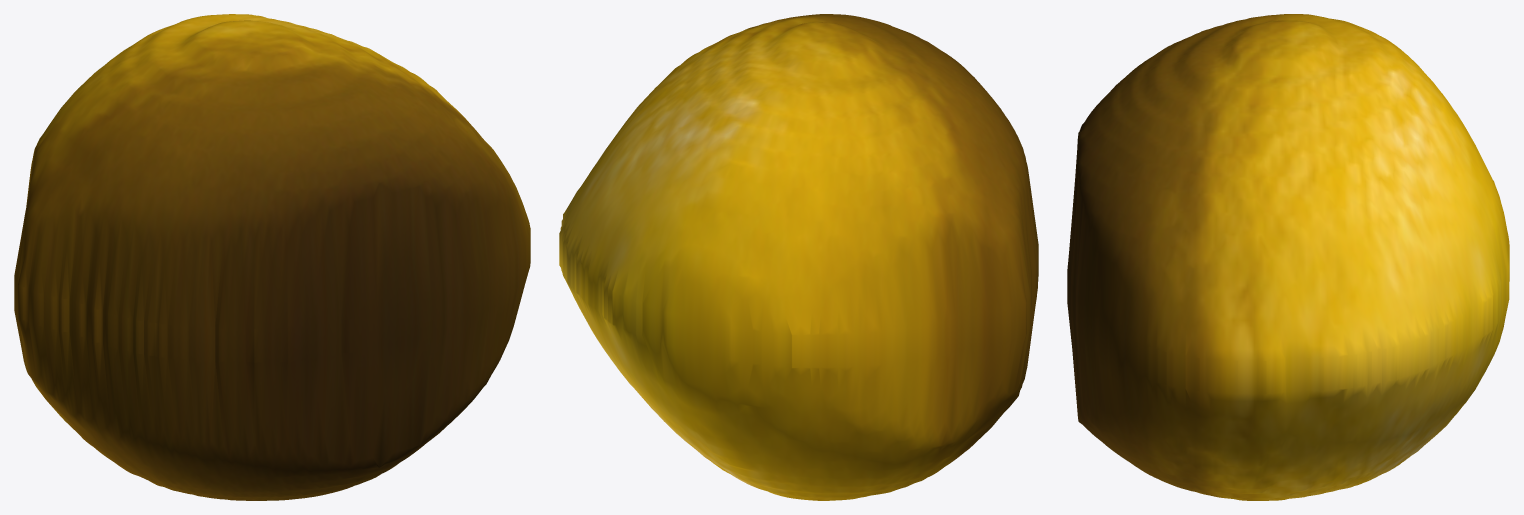
The model's file is lemon_0_2.obj.
3 views of the same model, side by side, from view 1: azimuth 30°, elevation 25°; view 2: azimuth 150°, elevation 25°; view 3: azimuth 270°, elevation 25° (orthographic). The views are drawn at different scales.
Parts seen in each view (by area): view 1: Grid; view 2: Grid; view 3: Grid.
Part boxes in pixels (bbox=[...]): Grid: bbox=[14, 14, 530, 500]; Grid: bbox=[559, 14, 1038, 500]; Grid: bbox=[1067, 14, 1509, 500].
Bounding box in the file's own units: 1.75 × 1.61 × 1.46.
1 material, 1 textured.
